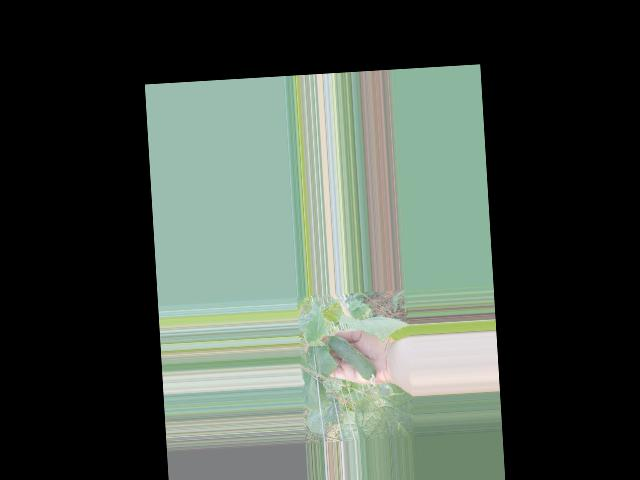cucumber: (327, 333, 377, 390)
